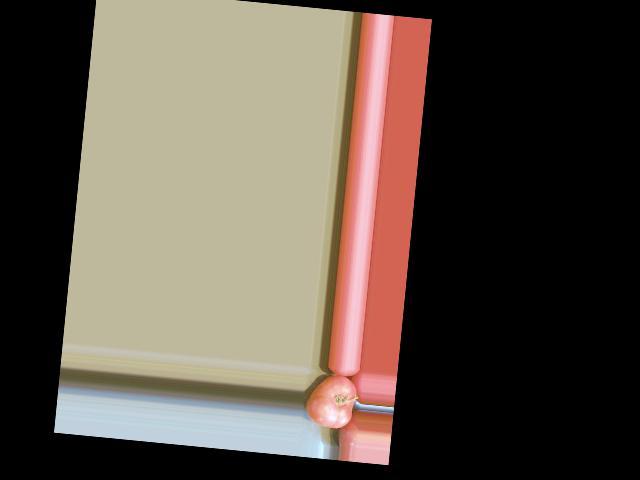tomato: (304, 372, 357, 429)
